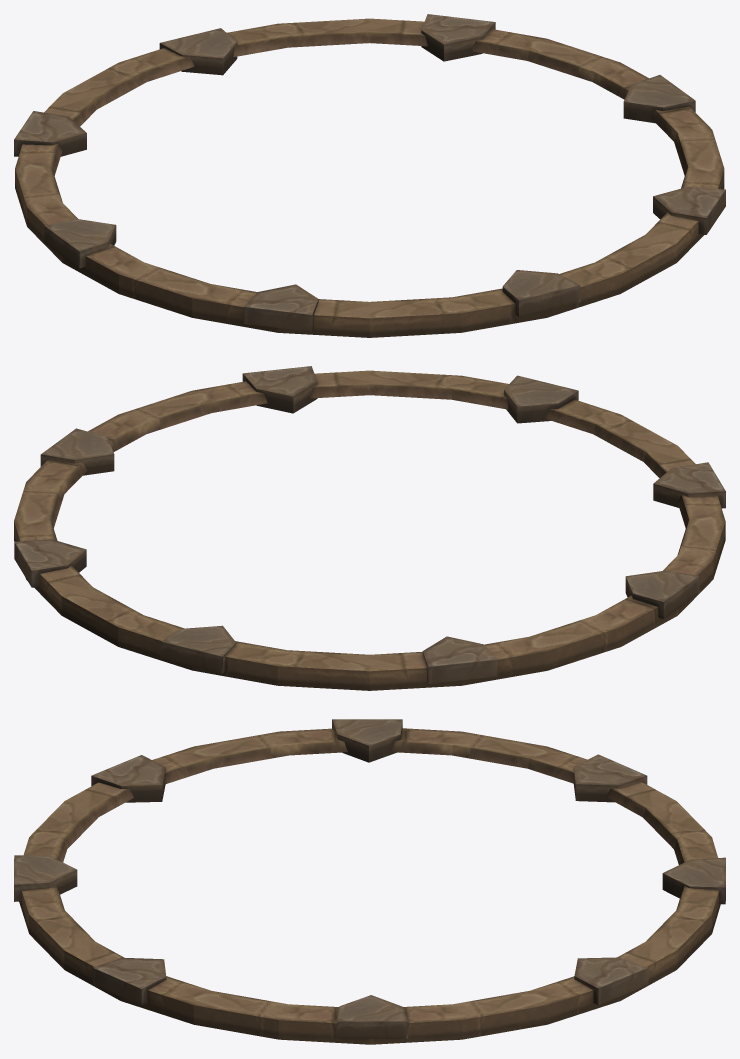
Rendered from Table03_Build_LostTemple_006.FBX.
3 renders of one model, top to bottom at view 1: azimuth 30°, elevation 25°; view 2: azimuth 150°, elevation 25°; view 3: azimuth 270°, elevation 25°, orthographic.
Parts seen in each view (by area): view 1: Table03_Build_LostTemple_006; view 2: Table03_Build_LostTemple_006; view 3: Table03_Build_LostTemple_006.
Boxes of the visible parts, bbox=[...] form: Table03_Build_LostTemple_006: bbox=[14, 14, 725, 337]; Table03_Build_LostTemple_006: bbox=[14, 366, 725, 690]; Table03_Build_LostTemple_006: bbox=[14, 719, 725, 1044].
Bounding box in the file's own units: 365 × 14.59 × 365.
